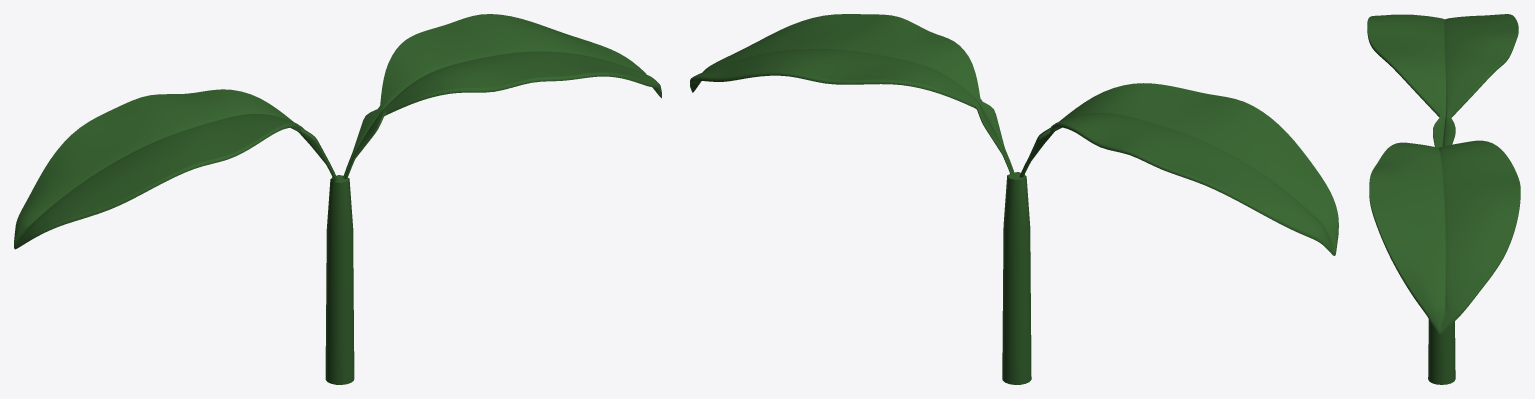
File: Chilli_Small.fbx
3 renders of one model, left to right at view 1: azimuth 30°, elevation 25°; view 2: azimuth 150°, elevation 25°; view 3: azimuth 270°, elevation 25°, orthographic. The views are drawn at different scales.
Parts seen in each view (by area): view 1: Chilli_Smol; view 2: Chilli_Smol; view 3: Chilli_Smol.
Boxes of the visible parts, bbox=[...] form: Chilli_Smol: bbox=[14, 14, 661, 384]; Chilli_Smol: bbox=[690, 14, 1338, 384]; Chilli_Smol: bbox=[1367, 14, 1520, 384].
Bounding box in the file's own units: 3.38 × 1.48 × 0.7456.
